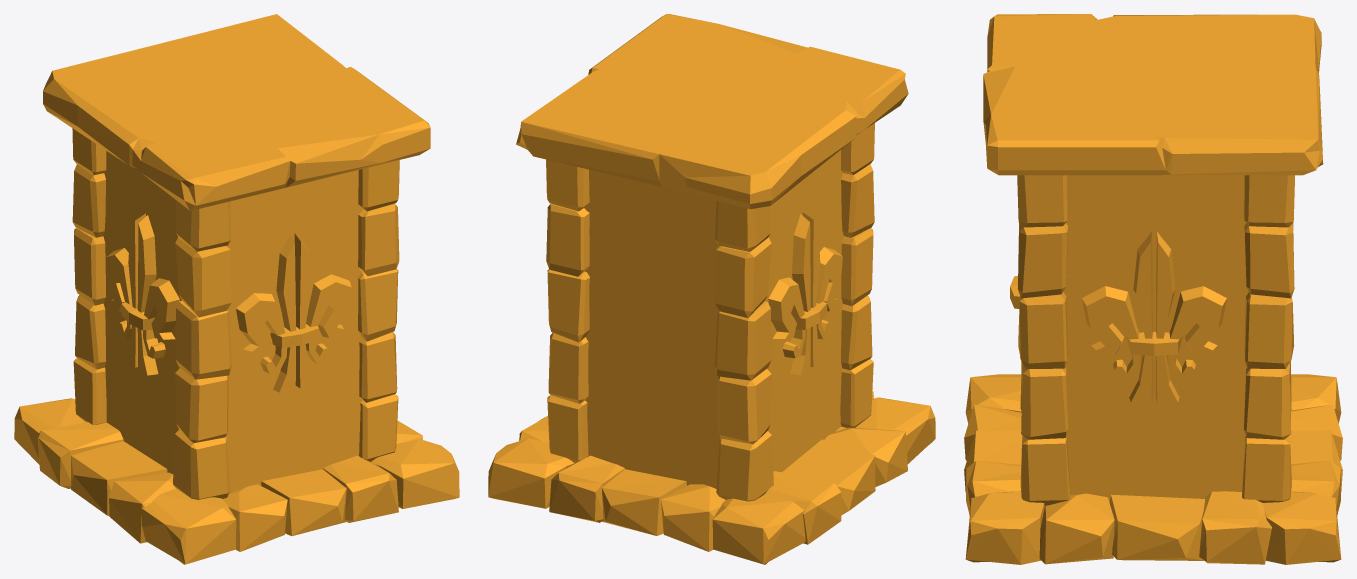
Rendered from SM_Pedestal_Rugged_C_Fantasy.fbx.
3 views of the same model, side by side, from view 1: azimuth 30°, elevation 25°; view 2: azimuth 150°, elevation 25°; view 3: azimuth 270°, elevation 25° (orthographic). The views are drawn at different scales.
Visible parts, largest first — view 1: SM_Pedestal_Rugged_Fantasy_C; view 2: SM_Pedestal_Rugged_Fantasy_C; view 3: SM_Pedestal_Rugged_Fantasy_C.
Part boxes in pixels (box(x1,y1,x2,y2)): SM_Pedestal_Rugged_Fantasy_C: box(14, 14, 459, 564); SM_Pedestal_Rugged_Fantasy_C: box(488, 14, 935, 564); SM_Pedestal_Rugged_Fantasy_C: box(964, 14, 1342, 564).
Bounding box in the file's own units: 1 × 1.2 × 1.
